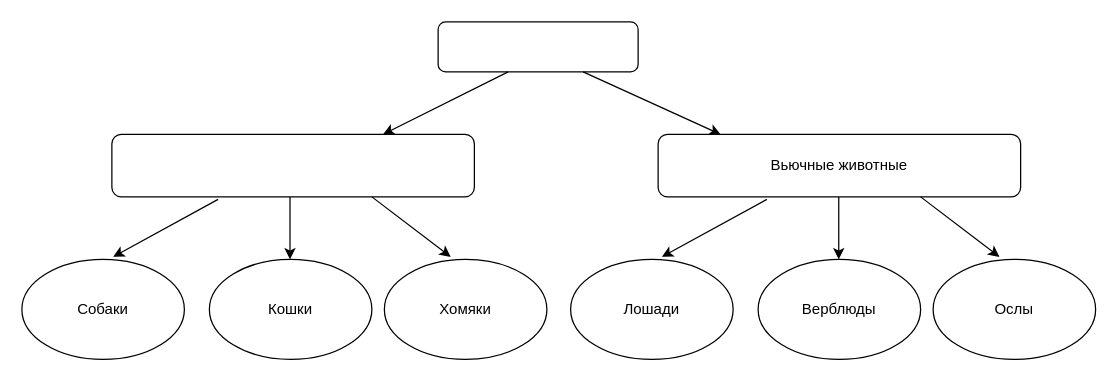
Image size: 1118x381. Some labels were removed from this diagram. Each missing label, with the centre of its shape:
Домашние животные: pixel 292 165
Друзья: pixel 537 46
